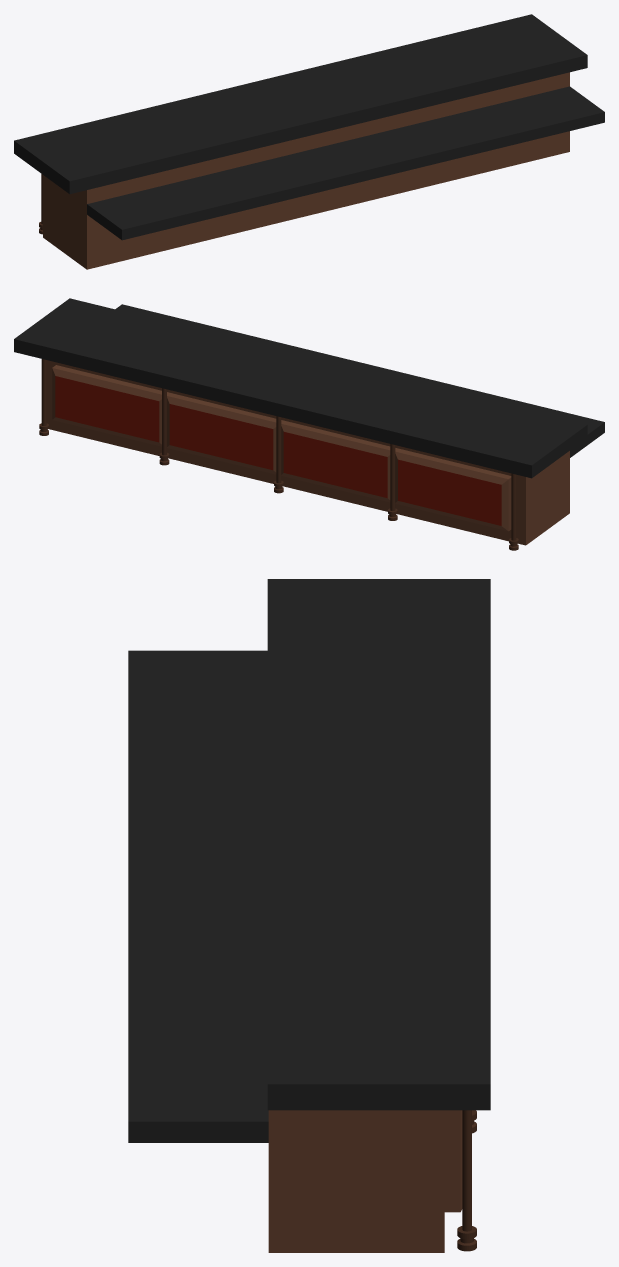
File: Desk (2).fbx
3 renders of one model, top to bottom at view 1: azimuth 30°, elevation 25°; view 2: azimuth 150°, elevation 25°; view 3: azimuth 270°, elevation 25°, orthographic. The views are drawn at different scales.
Visible parts, largest first — view 1: Cube; view 2: Cube; view 3: Cube.
Part boxes in pixels (x1,y1,x2,y2): Cube: (14,14,604,269); Cube: (14,298,604,550); Cube: (128,579,490,1252).
Size of the model in its own units: 1358 by 234 by 412.
